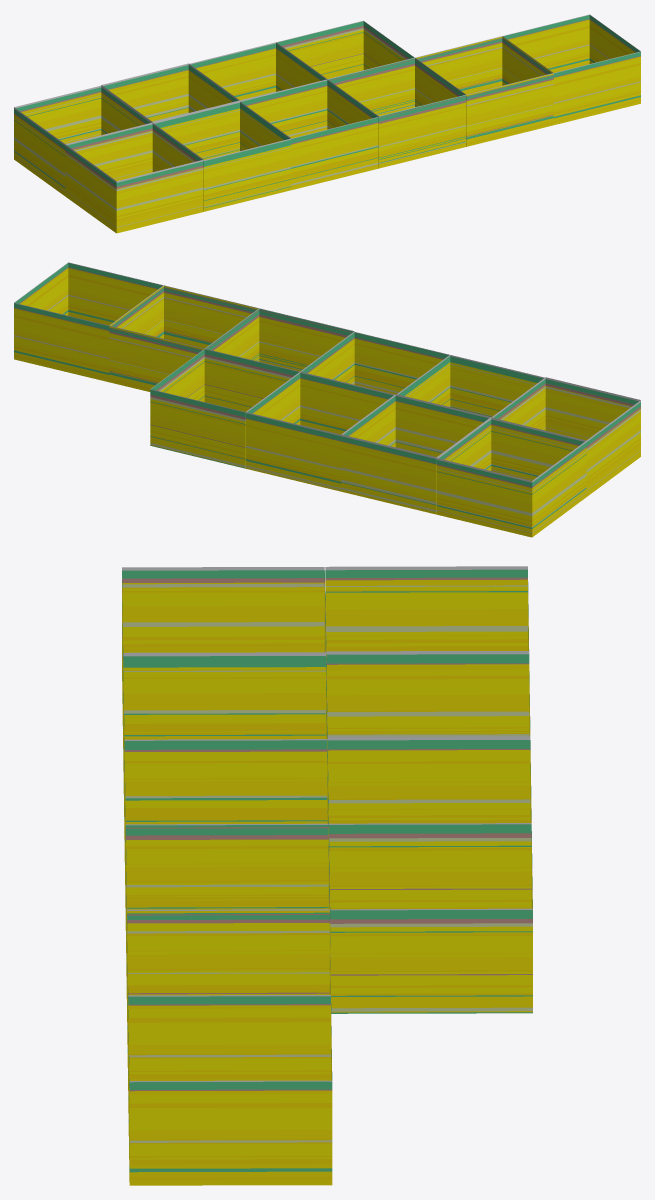
The picture shows the model from 3 angles, top to bottom: view 1: azimuth 30°, elevation 25°; view 2: azimuth 150°, elevation 25°; view 3: azimuth 270°, elevation 25°; orthographic projection. The views are drawn at different scales.
Parts seen in each view (by area): view 1: mesh; view 2: mesh; view 3: mesh.
Boxes of the visible parts, bbox=[...] form: mesh: bbox=[14, 14, 640, 233]; mesh: bbox=[14, 262, 640, 537]; mesh: bbox=[122, 566, 532, 1185].
Size of what is drawn, in the model's own units: 981 by 94 by 331.
